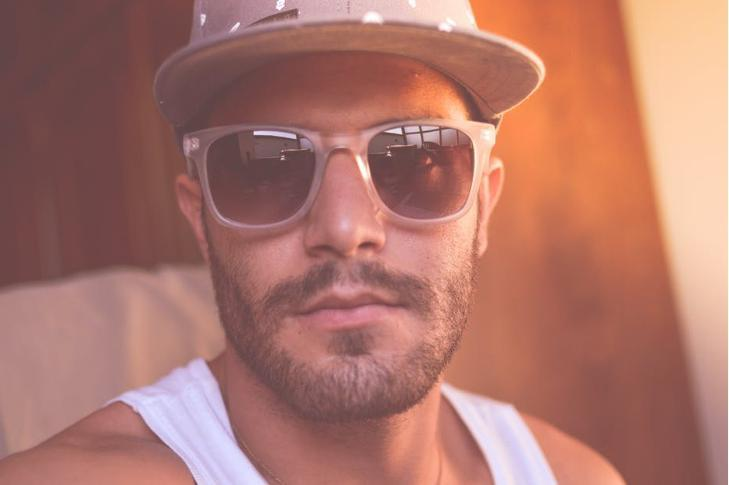face: (198, 52, 473, 418)
